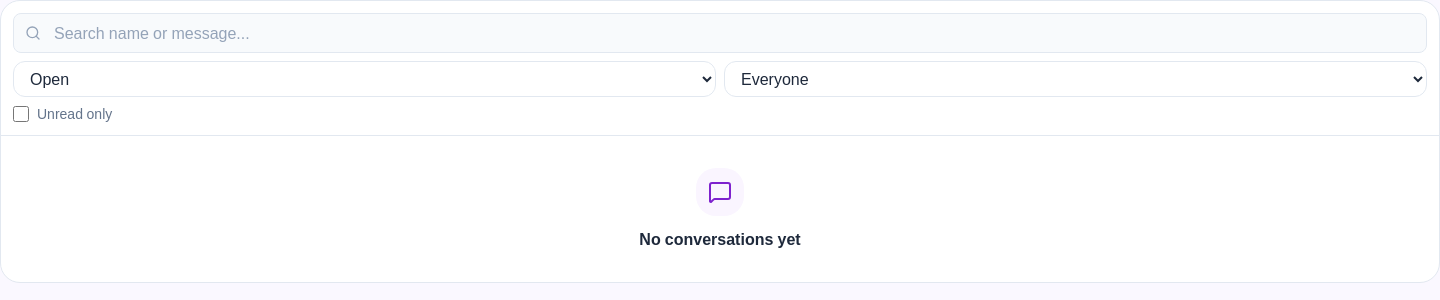
Test case: ConversationList › ບໍ່ມີຂໍ້ມູນ: ຂໍ້ຄວາມຕ່າງກັນລະຫວ່າງ 'ຍັງບໍ່ມີ' ກັບ 'ຄົ້ນຫາບໍ່ພົບ'
Expected: the text "No conversations yet" is shown, [639,228,801,250]
Click the checkbox labelled "Unread only" at {"x": 21, "y": 114}, box [13,106,29,122]
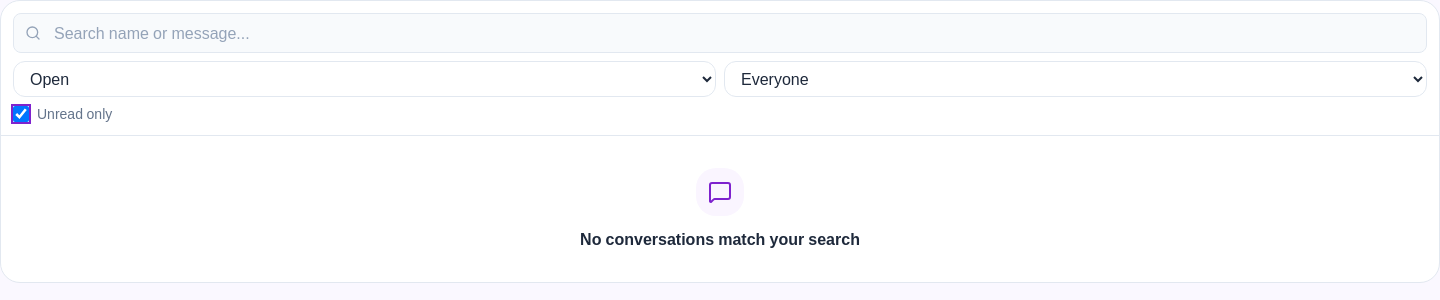
Expected: the text "No conversations match your search" is shown, [580,228,860,250]
